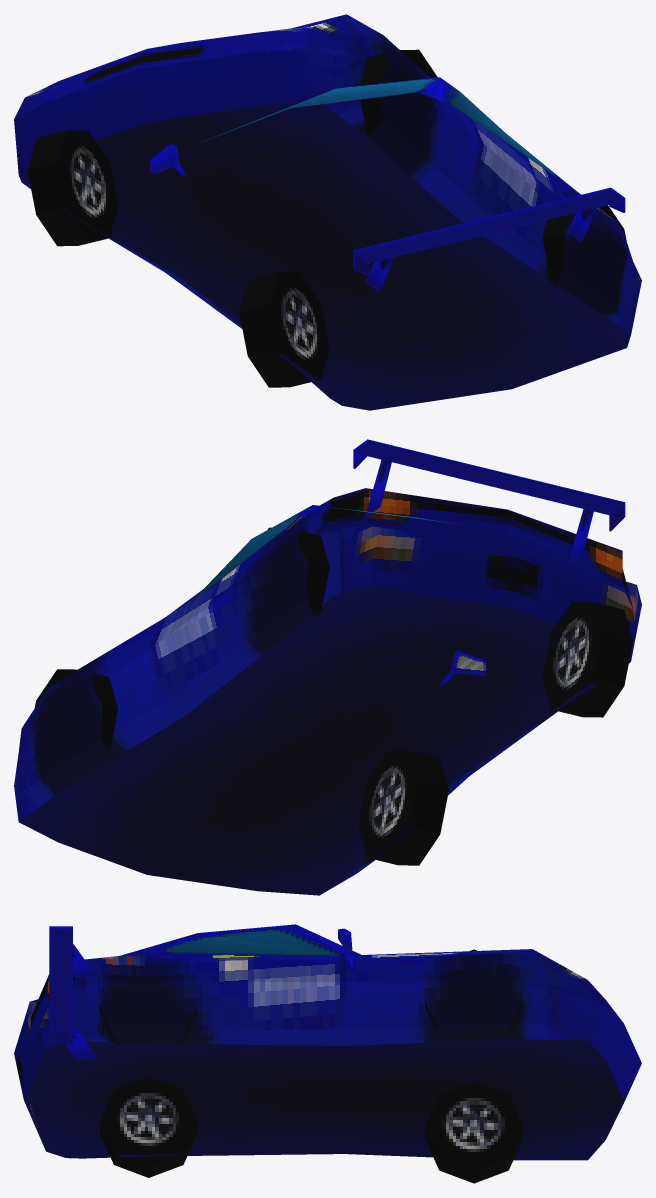
File: ps2_save-icons_darlingspecialbacklash.glb
3 renders of one model, top to bottom at view 1: azimuth 30°, elevation 25°; view 2: azimuth 150°, elevation 25°; view 3: azimuth 270°, elevation 25°, orthographic. The views are drawn at different scales.
Parts seen in each view (by area): view 1: bl.ico; view 2: bl.ico; view 3: bl.ico.
Part boxes in pixels (box(x1,y1,x2,y2)): bl.ico: box(14, 14, 641, 410); bl.ico: box(14, 439, 641, 895); bl.ico: box(14, 924, 641, 1183).
Bounding box in the file's own units: 2.34 × 1.15 × 4.28.
1 material, 1 textured.
